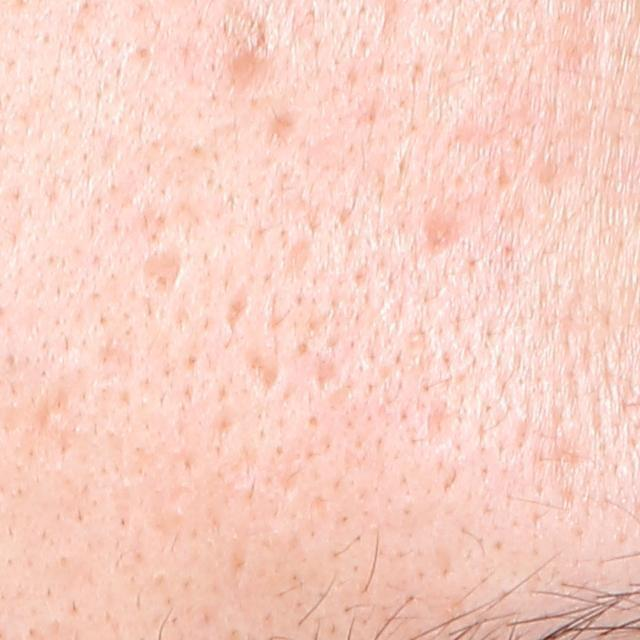atrophic_scar: (222, 51, 276, 98), (138, 251, 187, 297), (278, 234, 317, 280), (425, 209, 462, 255), (212, 294, 257, 331), (243, 352, 283, 392), (261, 113, 295, 153)
comedo: (40, 410, 68, 432)
